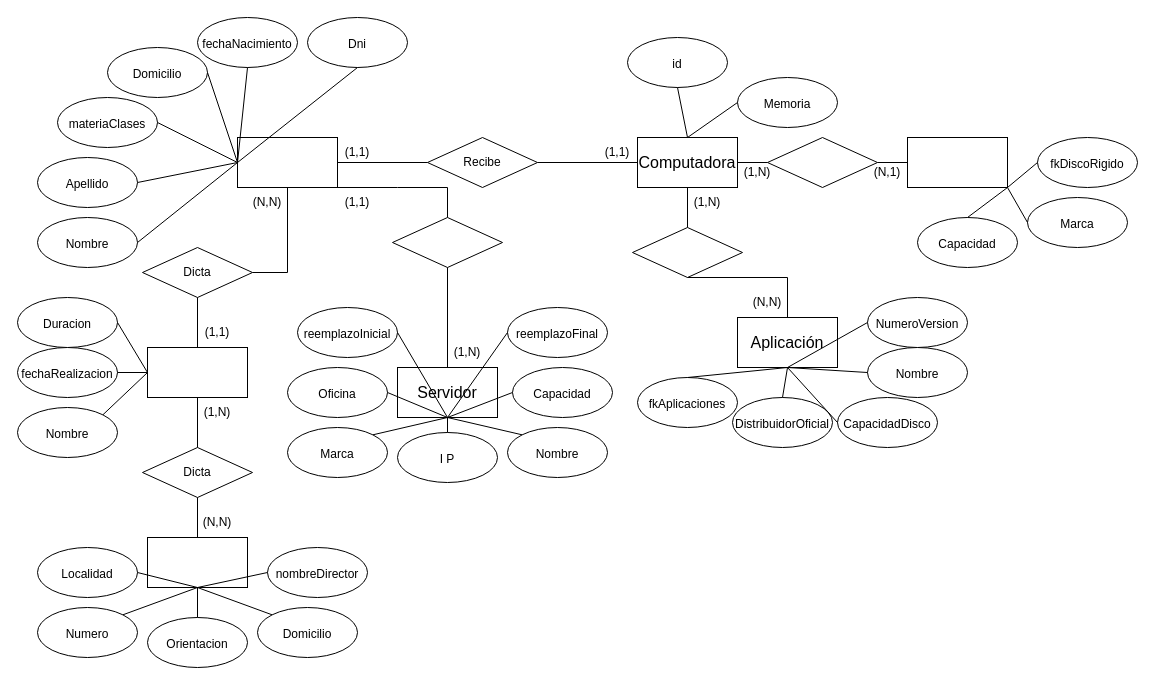
Some shapes in this 1155 by 685 pixel diagram are drawn without their labels. The centre of each missing label's shape, as x and y in pixels:
"Conecta" belongs at (447,242).
"Contiene" belongs at (822,162).
"DiscoRigido" belongs at (957,162).
"Docente" belongs at (287,162).
"Escuela" belongs at (197,562).
"Taller" belongs at (197,372).
"Tiene" belongs at (687,252).
